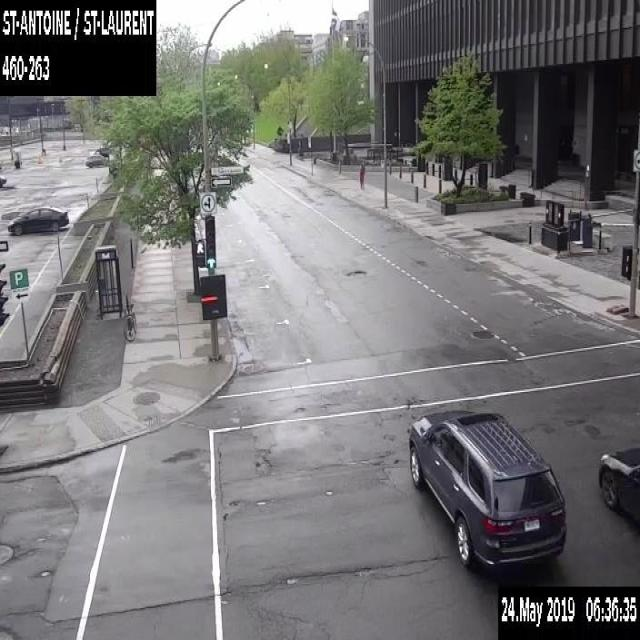construction: (276, 125, 283, 135)
pedestrian: (358, 159, 364, 188)
vehicle: (408, 407, 569, 572), (596, 441, 639, 528), (7, 205, 69, 234), (85, 152, 109, 166), (93, 144, 109, 156), (0, 172, 6, 186)
